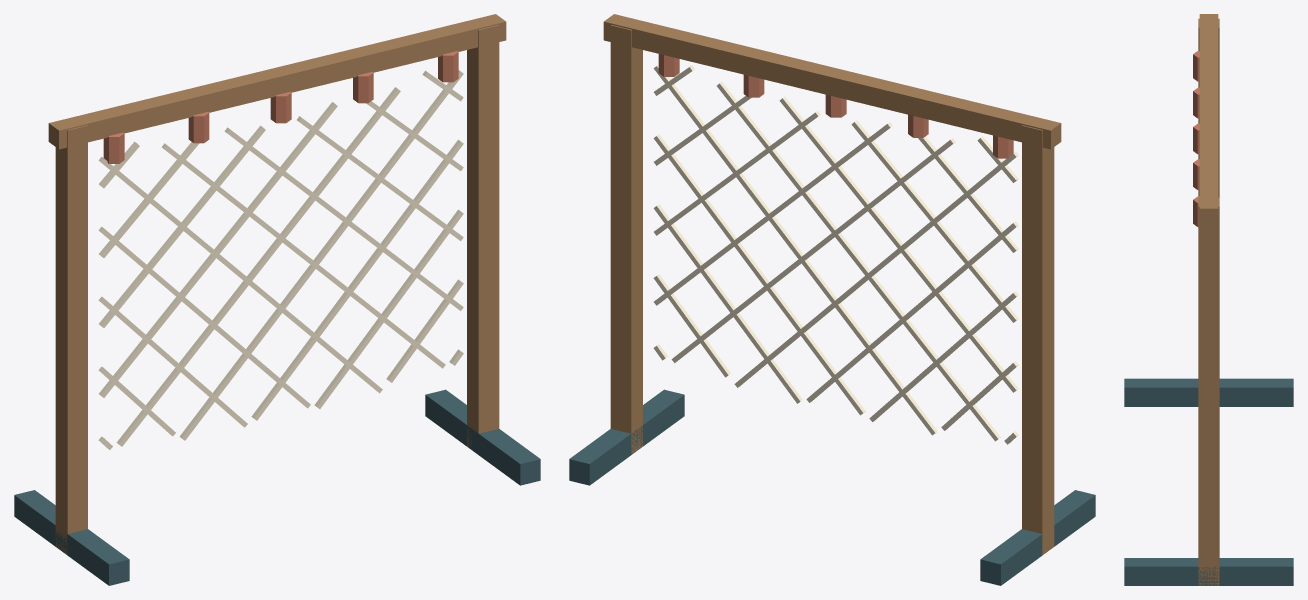
The model's file is AC_Net_Drying_Rack.glb.
3 renders of one model, left to right at view 1: azimuth 30°, elevation 25°; view 2: azimuth 150°, elevation 25°; view 3: azimuth 270°, elevation 25°, orthographic. The views are drawn at different scales.
Visible parts, largest first — view 1: AC_Net_Drying_Rack; view 2: AC_Net_Drying_Rack; view 3: AC_Net_Drying_Rack.
Boxes of the visible parts, x1,y1,x2,y2 form: AC_Net_Drying_Rack: [14, 14, 540, 585]; AC_Net_Drying_Rack: [569, 14, 1095, 585]; AC_Net_Drying_Rack: [1124, 14, 1293, 585].
Bounding box in the file's own units: 1.74 × 1.59 × 0.64.
